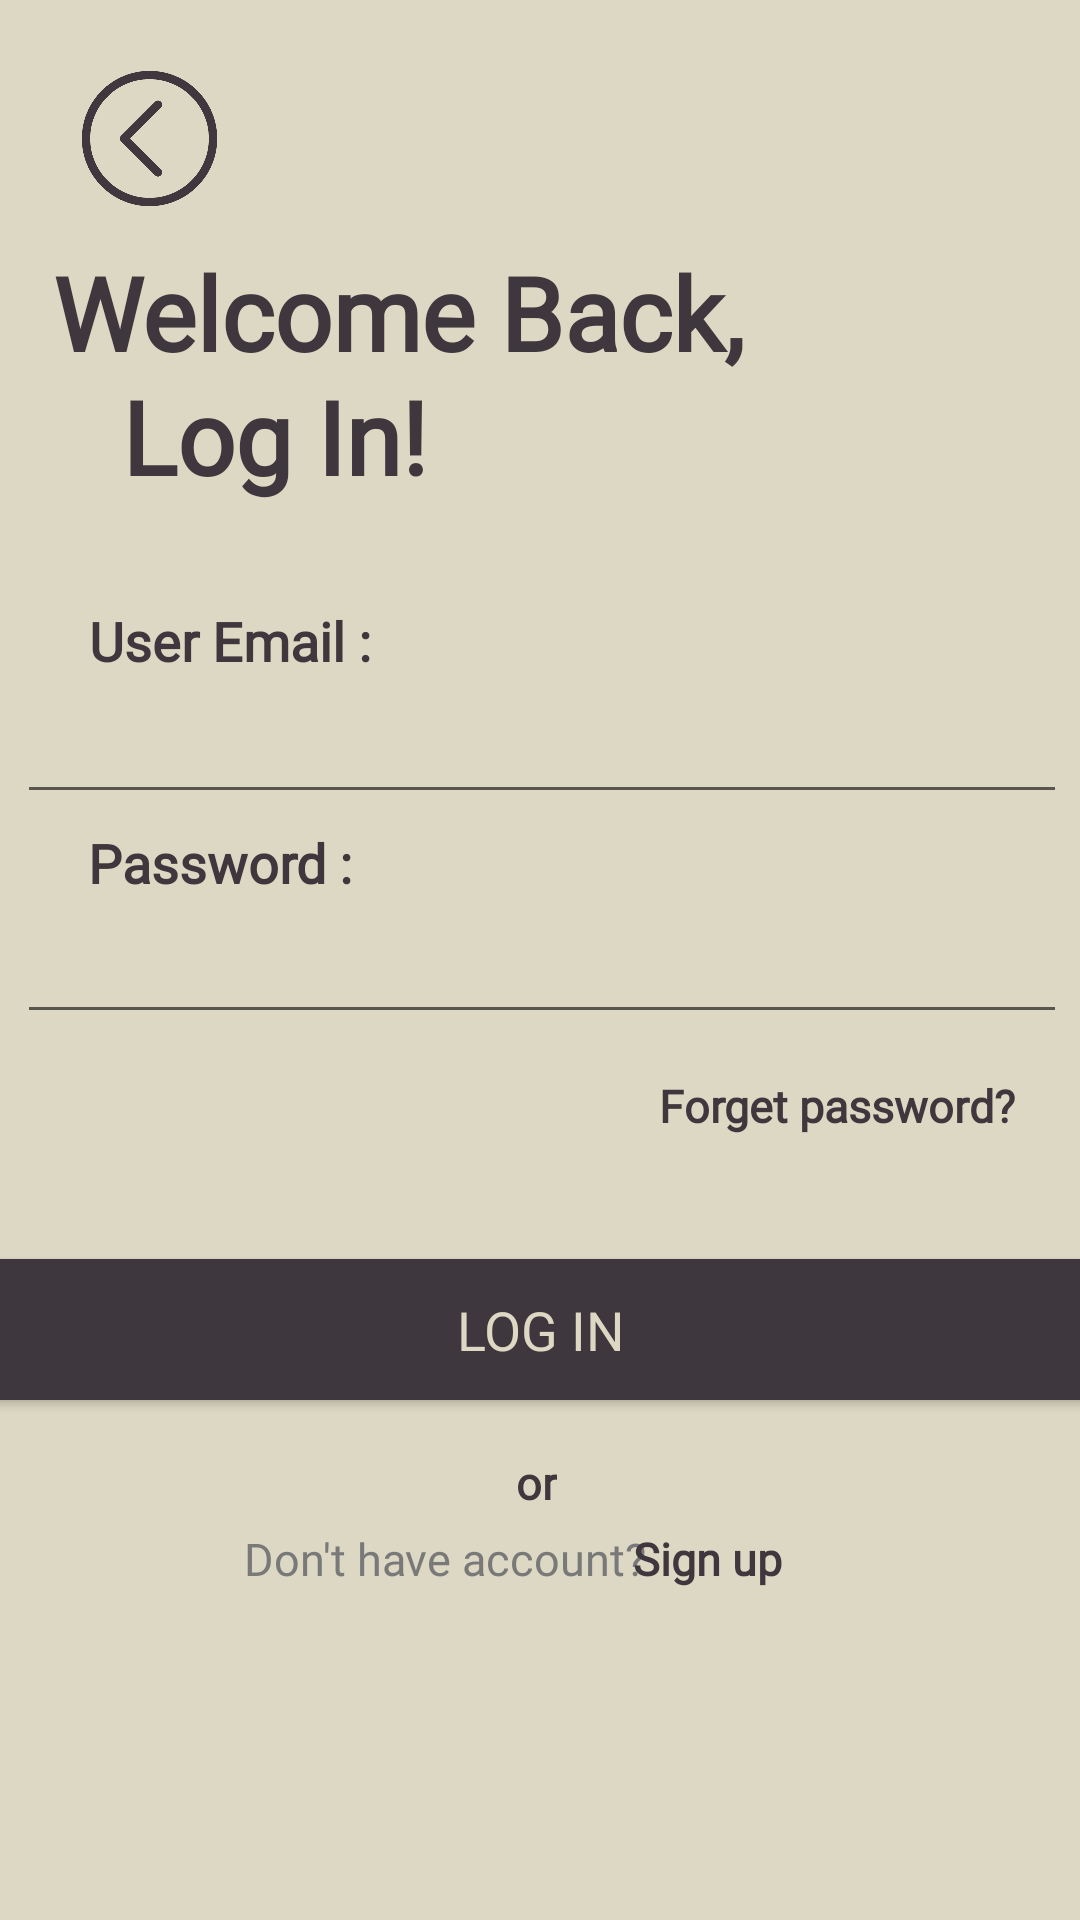

Locate icon controls on the screen. Image size 1080*1920, boxes as (x1, y1, x2, y2).
backbuttn: (82, 71, 217, 206)
